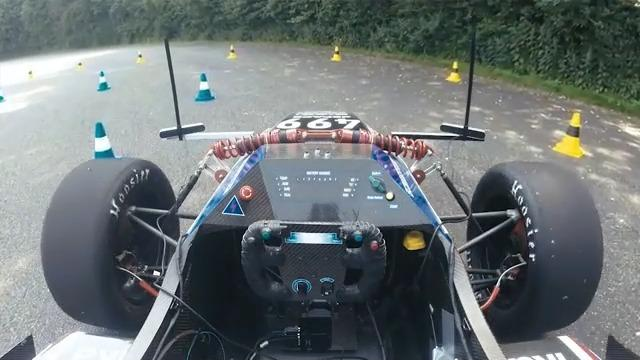blue_cone: (77, 122, 124, 176), (192, 74, 214, 102), (97, 72, 110, 92)
yellow_cone: (551, 111, 585, 161), (446, 62, 462, 83), (329, 42, 343, 61), (224, 43, 237, 60), (135, 50, 145, 65), (26, 68, 34, 82), (76, 59, 83, 72)
